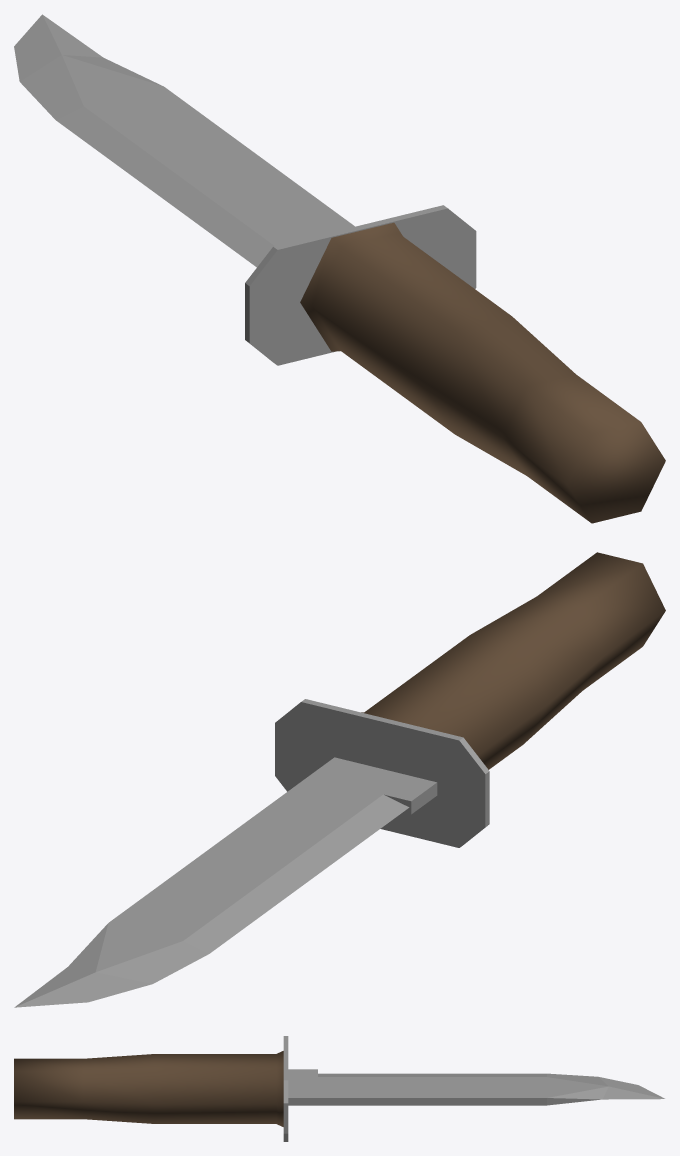
The model's file is Knife.fbx.
3 renders of one model, top to bottom at view 1: azimuth 30°, elevation 25°; view 2: azimuth 150°, elevation 25°; view 3: azimuth 270°, elevation 25°, orthographic. The views are drawn at different scales.
Parts seen in each view (by area): view 1: Cube.001, Cube.002, Cube.003; view 2: Cube.002, Cube.001, Cube.003; view 3: Cube.001, Cube.002, Cube.003.
Part boxes in pixels (box(x1,y1,x2,y2)): Cube.001: box(300, 222, 665, 523); Cube.002: box(14, 14, 354, 267); Cube.003: box(245, 205, 476, 365); Cube.002: box(14, 757, 437, 1007); Cube.001: box(361, 552, 665, 769); Cube.003: box(275, 699, 489, 847); Cube.001: box(14, 1051, 283, 1126); Cube.002: box(288, 1069, 664, 1105); Cube.003: box(283, 1036, 288, 1141).
Size of the model in its own units: 5.79 by 2.83 by 27.13.
